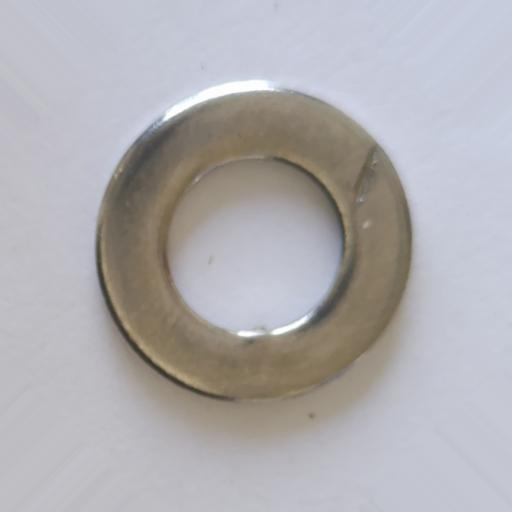scratch: (352, 148, 381, 203)
